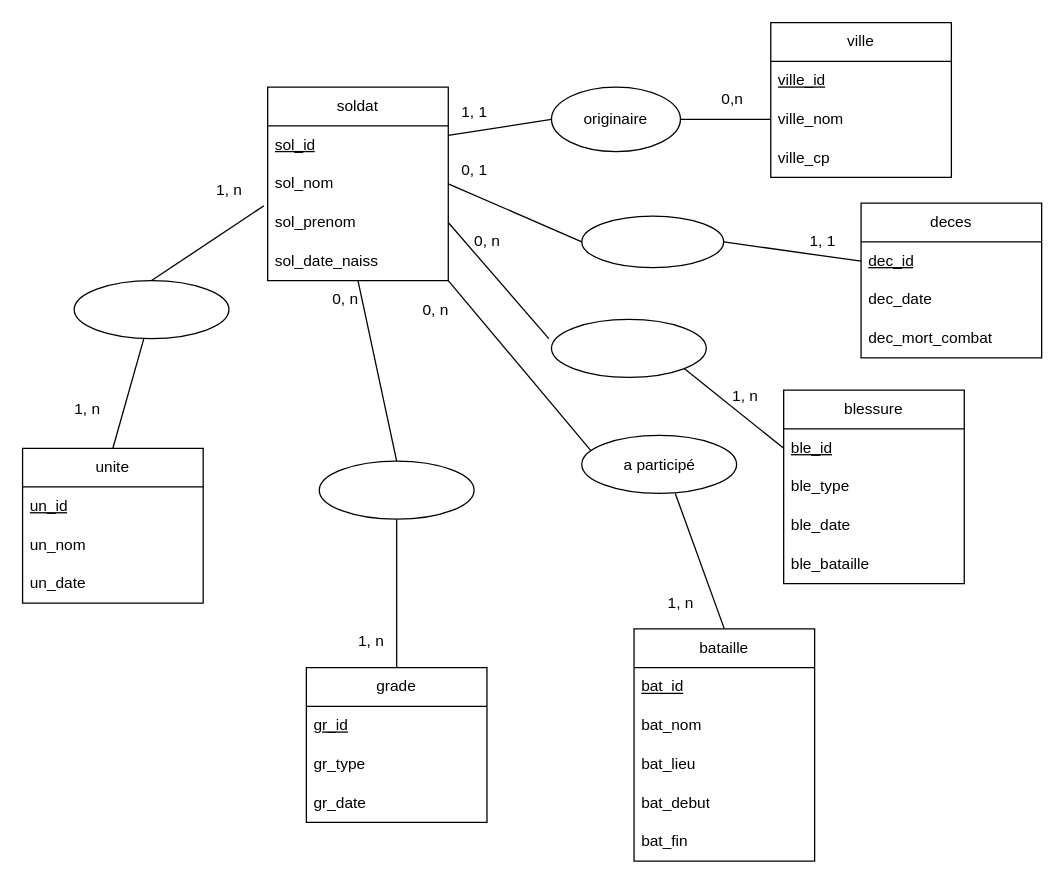
Some shapes in this 1064 by 884 pixel diagram are drawn without their labels. Here are the shapes that lost their labels. From the top down, the centre of each, then its label:
At (652,241): "est".
At (151,309): "appartiens".
At (628,347): "a eu".
At (396,489): "promotion".
